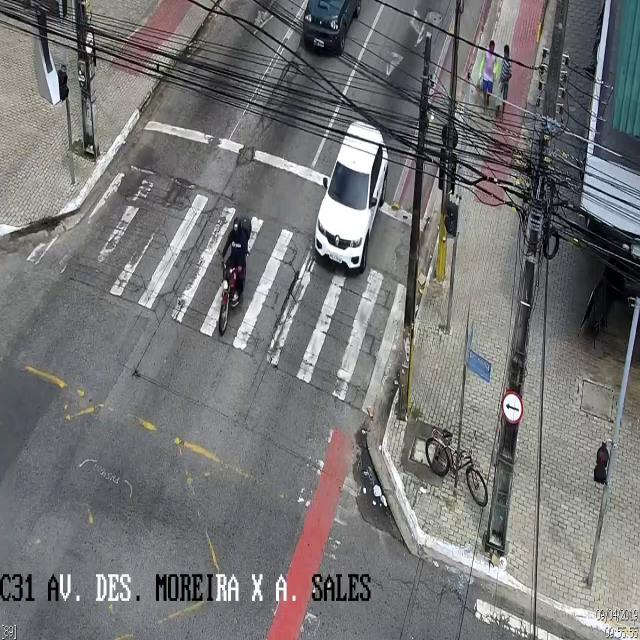Car: (312, 117, 387, 276), (299, 1, 362, 52)
Motorcycle: (218, 217, 250, 339)
